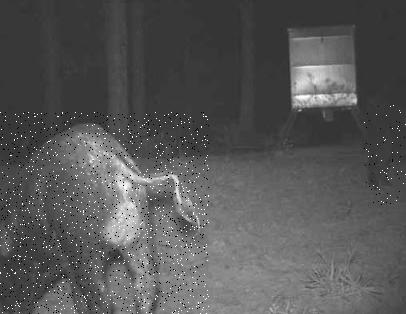Hog: (0, 112, 209, 314), (363, 104, 406, 205)
